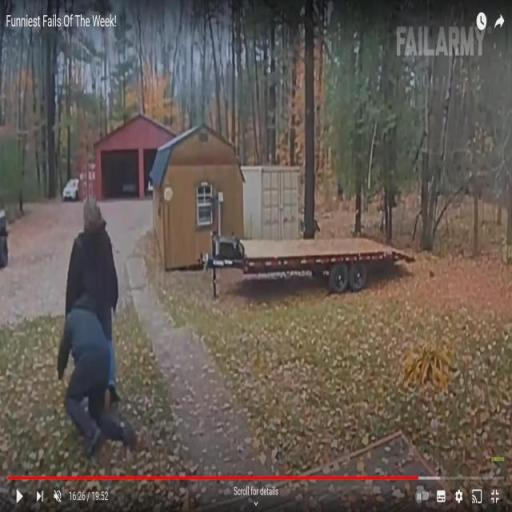Fall: (55, 290, 138, 463)
